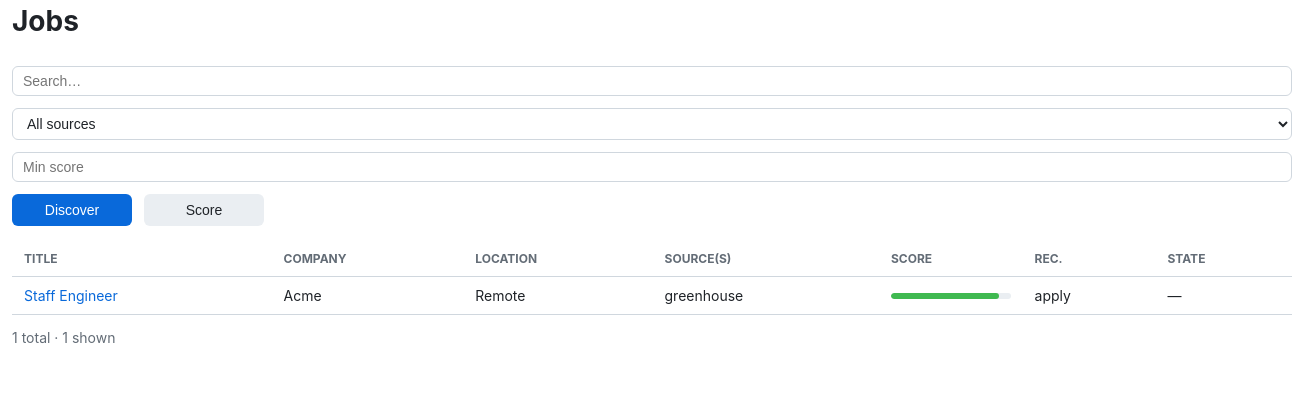
Test: Jobs › scores discovered jobs and reports the count
Expected: the link "Staff Engineer" is shown, [24,287,118,304]
Click the button "Score": (204, 210) [144,194,264,226]
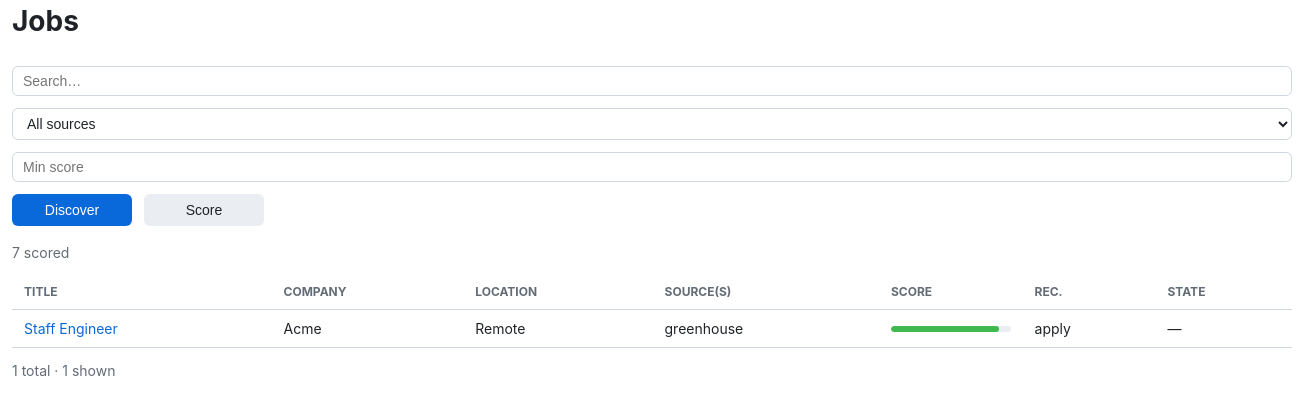
Now the text "7 scored" is shown, box [12,244,69,261]
